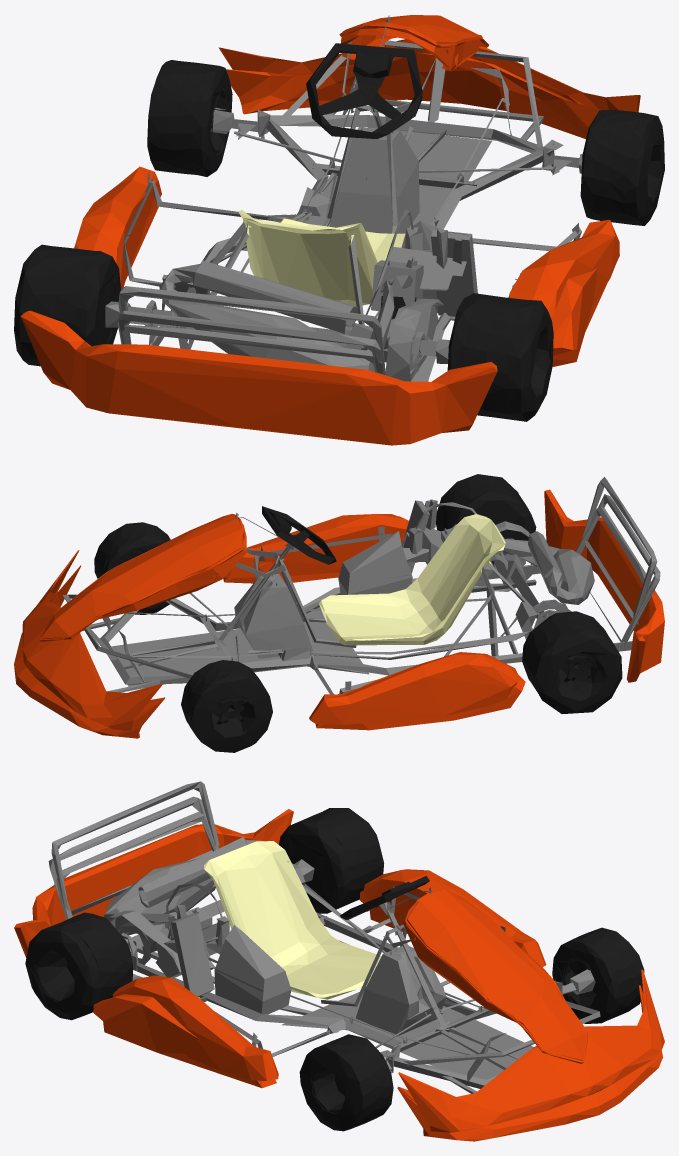
Rendered from kart.glb.
The picture shows the model from 3 angles, top to bottom: view 1: azimuth 30°, elevation 25°; view 2: azimuth 150°, elevation 25°; view 3: azimuth 270°, elevation 25°; orthographic projection. The views are drawn at different scales.
Parts seen in each view (by area): view 1: KART-OBJ; view 2: KART-OBJ; view 3: KART-OBJ.
Part boxes in pixels (left/top/right/bottom): KART-OBJ: left=14, top=15, right=664, bottom=445; KART-OBJ: left=14, top=474, right=664, bottom=752; KART-OBJ: left=14, top=781, right=664, bottom=1141.
Bounding box in the file's own units: 70.22 × 19.76 × 70.17.
